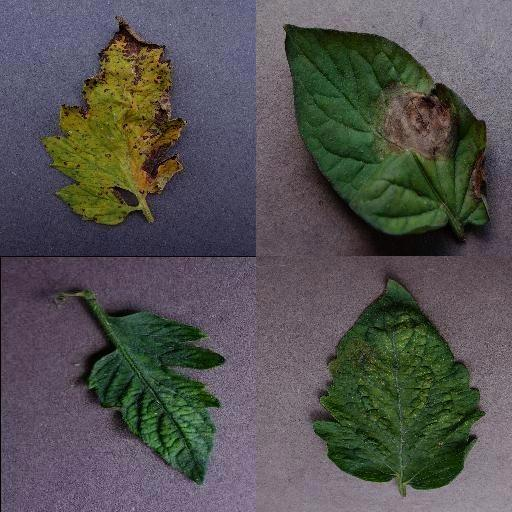Late Blight: (283, 22, 491, 236)
Mosaic Virus: (87, 310, 227, 486)
Septoria: (42, 15, 185, 225)
Spider Mites: (312, 278, 486, 494)
